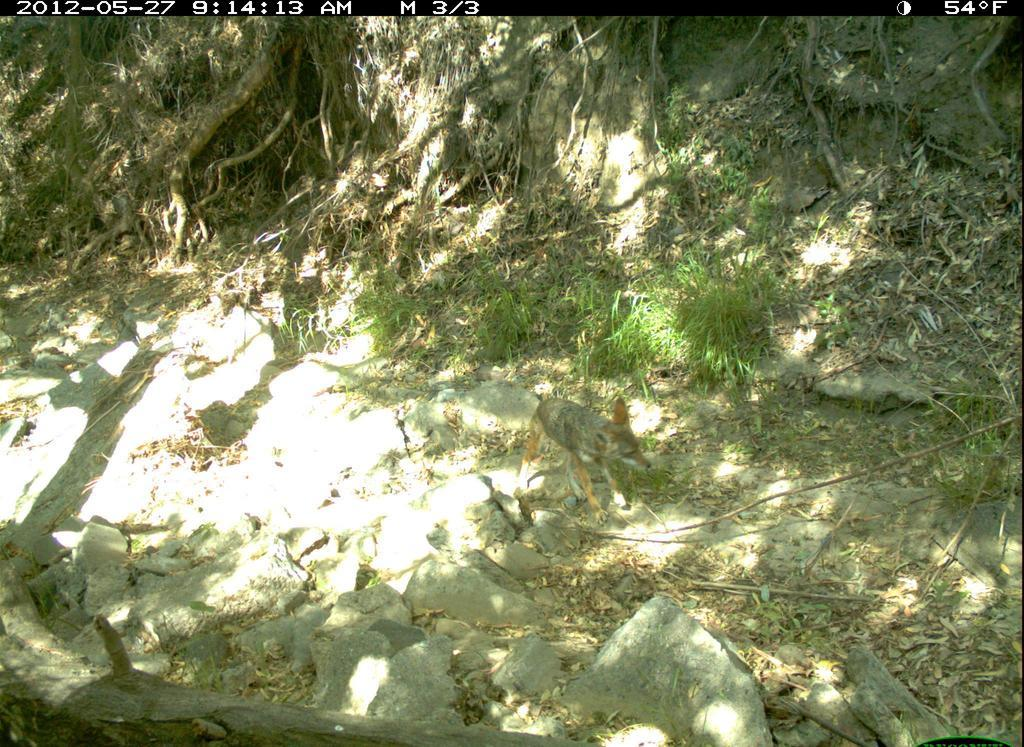coyote: (511, 377, 665, 517)
